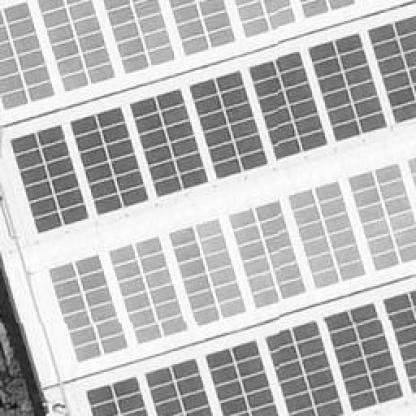solar-pv-panel: (47, 253, 130, 364), (10, 123, 91, 235), (188, 70, 269, 180), (229, 198, 308, 310), (308, 32, 388, 142), (130, 89, 210, 198), (109, 236, 189, 345), (288, 180, 367, 290), (70, 106, 149, 215), (250, 51, 328, 161), (170, 217, 247, 327), (325, 304, 403, 412), (266, 321, 346, 416), (348, 162, 416, 272), (38, 0, 116, 93), (0, 2, 55, 110), (206, 341, 280, 416), (104, 0, 176, 74), (369, 15, 416, 125), (146, 359, 213, 416), (170, 0, 237, 56), (384, 290, 416, 392), (85, 377, 148, 416), (236, 0, 297, 37), (301, 0, 356, 18), (407, 158, 416, 187)
